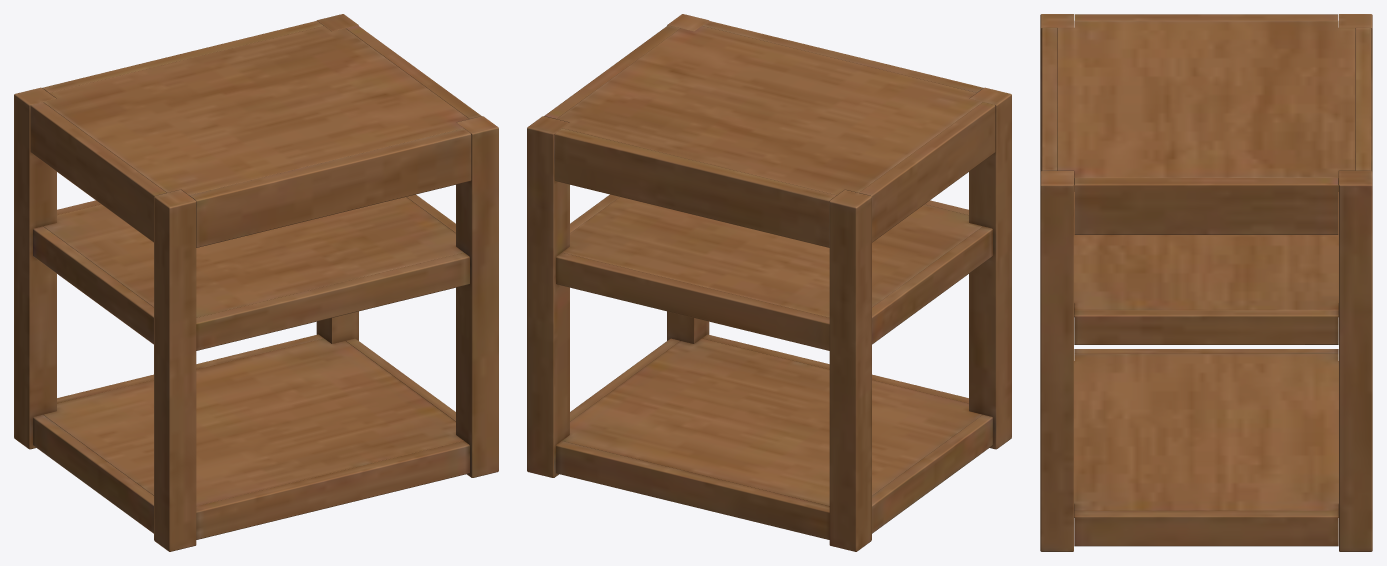
File: side_table_01.glb
The picture shows the model from 3 angles, left to right: view 1: azimuth 30°, elevation 25°; view 2: azimuth 150°, elevation 25°; view 3: azimuth 270°, elevation 25°; orthographic projection. The views are drawn at different scales.
Parts seen in each view (by area): view 1: side_table_01; view 2: side_table_01; view 3: side_table_01.
Part boxes in pixels (x1,y1,x2,y2): side_table_01: (14,14,498,551); side_table_01: (527,14,1011,551); side_table_01: (1040,14,1372,551).
Size of the model in its own units: 0.55 by 0.5507 by 0.45.
1 material, 1 textured.
